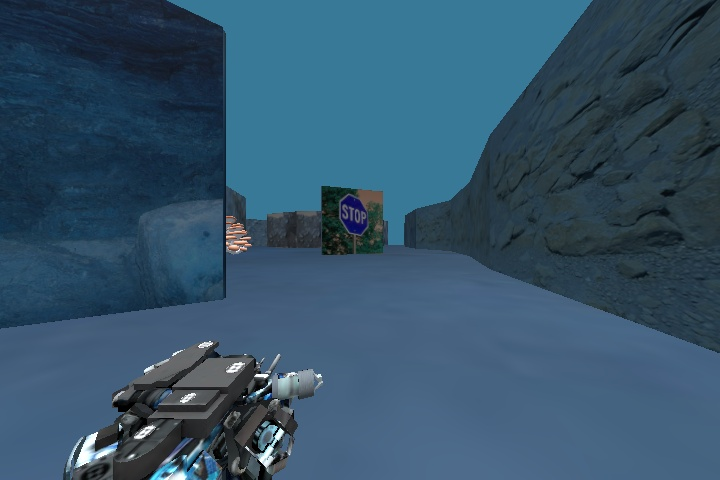mushrooms: (218, 207, 256, 260)
stop_sign: (326, 187, 379, 243)
